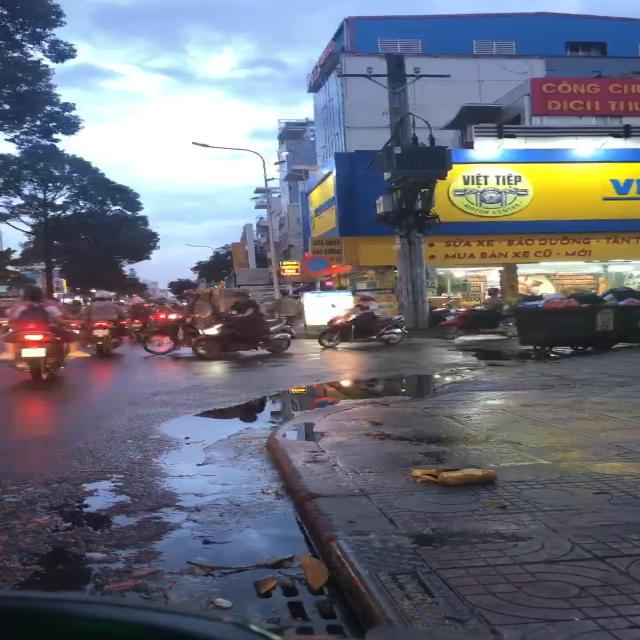Bien bao cam do xe: (299, 254, 335, 276)
